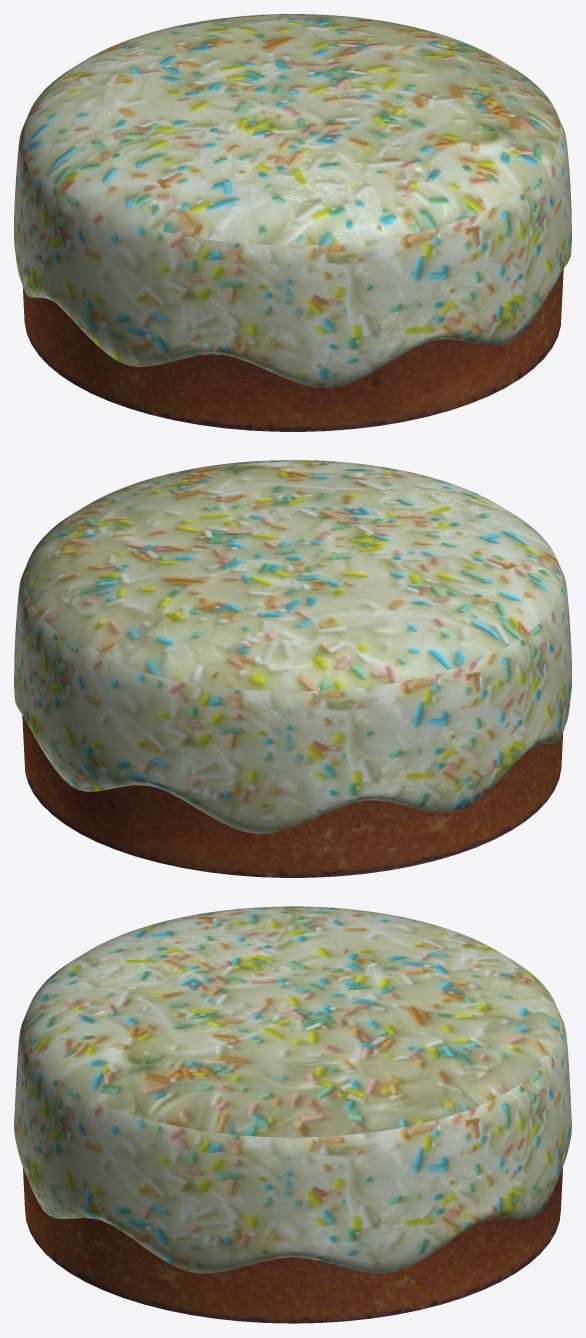
The model's file is cake.FBX.
3 renders of one model, top to bottom at view 1: azimuth 30°, elevation 25°; view 2: azimuth 150°, elevation 25°; view 3: azimuth 270°, elevation 25°, orthographic.
Visible parts, largest first — view 1: cake frosting, cake cake; view 2: cake frosting, cake cake; view 3: cake frosting, cake cake.
Boxes of the visible parts, bbox=[...] form: cake frosting: bbox=[14, 14, 571, 388]; cake cake: bbox=[22, 269, 563, 431]; cake frosting: bbox=[14, 460, 571, 834]; cake cake: bbox=[22, 715, 563, 877]; cake frosting: bbox=[14, 906, 571, 1273]; cake cake: bbox=[23, 1168, 562, 1323].
Size of the model in its own units: 0.338 by 0.3367 by 0.1476.
